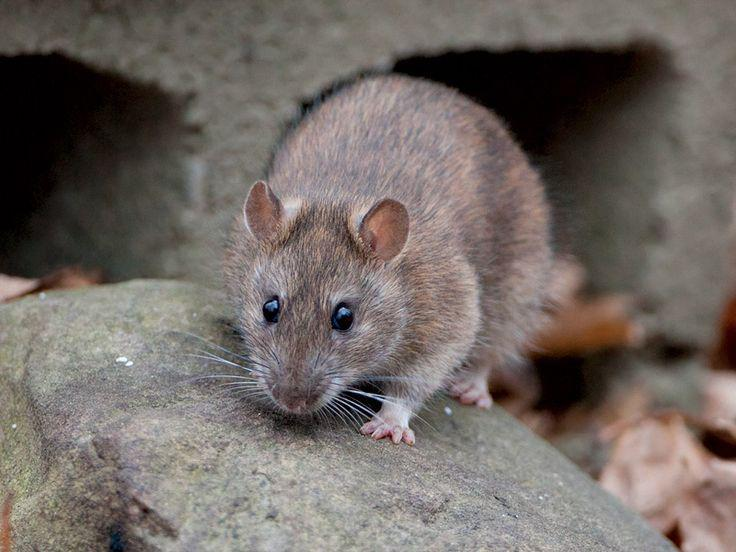rat: (225, 76, 551, 446)
